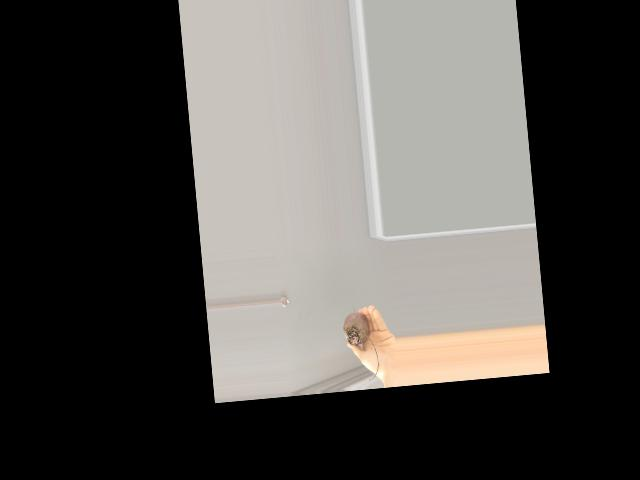beet: (341, 302, 380, 382)
